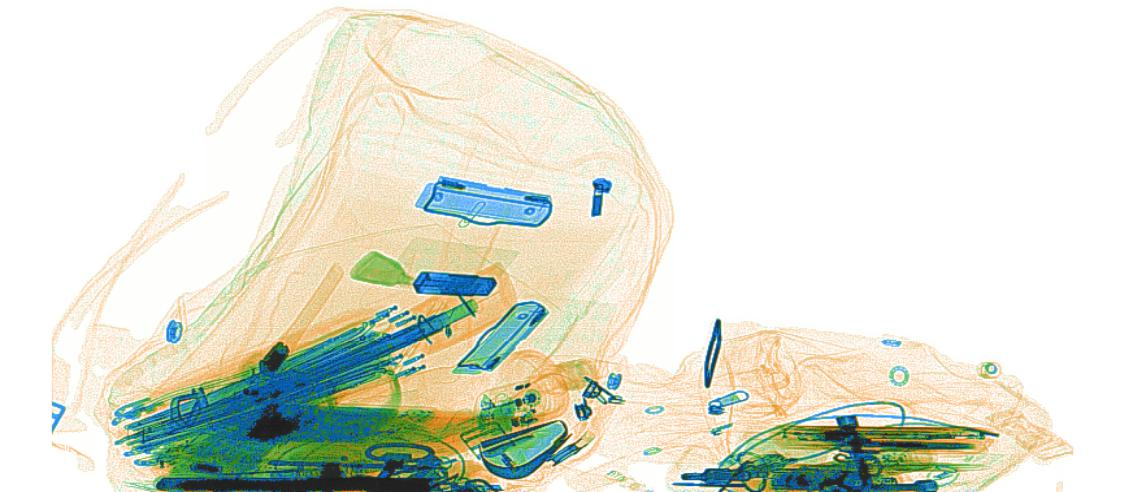USBFlashDisk: (413, 266, 497, 297)
